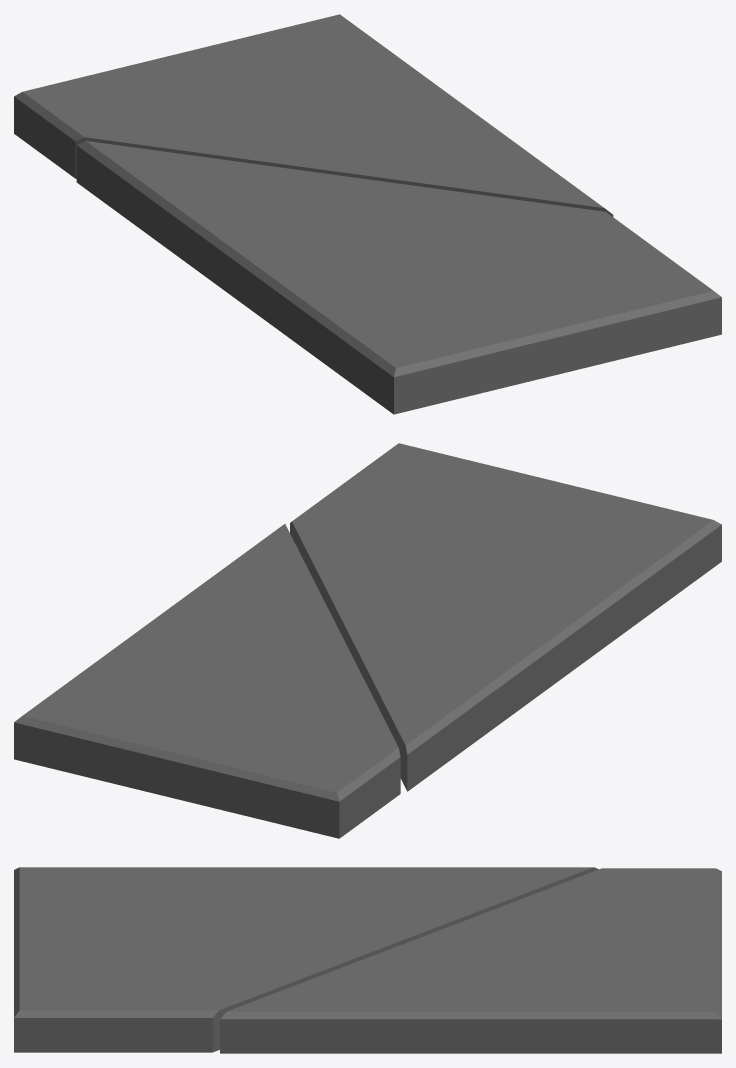
Rendered from Stone_3_2.fbx.
The picture shows the model from 3 angles, top to bottom: view 1: azimuth 30°, elevation 25°; view 2: azimuth 150°, elevation 25°; view 3: azimuth 270°, elevation 25°; orthographic projection. The views are drawn at different scales.
Parts seen in each view (by area): view 1: Stone_3_2; view 2: Stone_3_2; view 3: Stone_3_2.
Boxes of the visible parts, x1,y1,x2,y2 form: Stone_3_2: (14, 14, 721, 414); Stone_3_2: (14, 443, 721, 838); Stone_3_2: (14, 867, 721, 1053).
Size of the model in its own units: 31.78 by 3.94 by 63.65.
